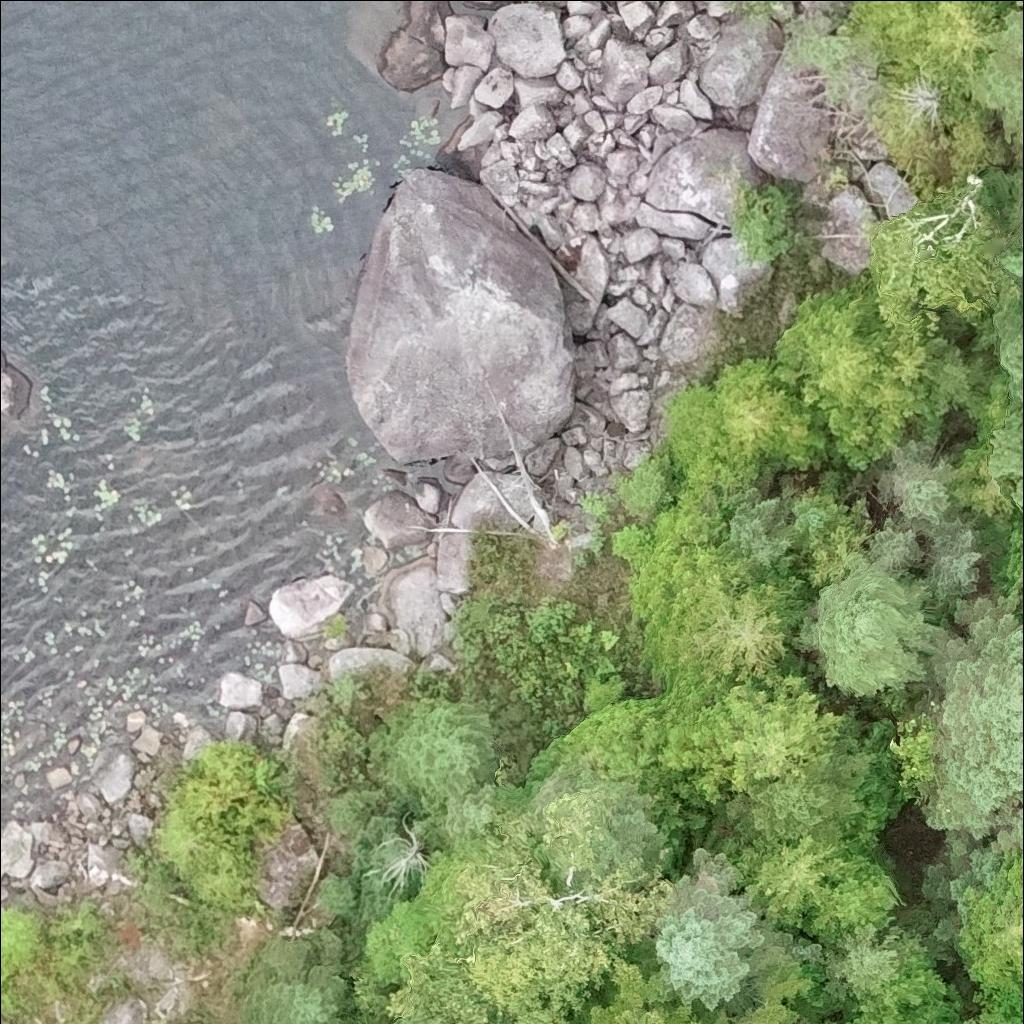crown: (384, 821, 674, 1023), (635, 663, 855, 807), (651, 848, 824, 1016), (641, 558, 807, 692), (790, 556, 945, 699), (864, 216, 1014, 346), (915, 659, 1023, 839), (723, 730, 873, 851), (574, 957, 839, 1023), (770, 278, 897, 414), (162, 752, 262, 916), (365, 696, 499, 814), (628, 507, 759, 620), (731, 831, 866, 933), (712, 356, 828, 470), (840, 932, 956, 1023), (925, 588, 1023, 691), (247, 926, 349, 1023), (989, 236, 1023, 518), (911, 0, 1008, 98), (803, 924, 914, 1004), (795, 859, 900, 943), (876, 433, 954, 537), (970, 0, 1023, 143), (955, 883, 1023, 994), (922, 507, 984, 607), (0, 907, 49, 977), (866, 516, 924, 572), (989, 804, 1023, 854), (1000, 848, 1023, 893), (1017, 603, 1023, 619)
